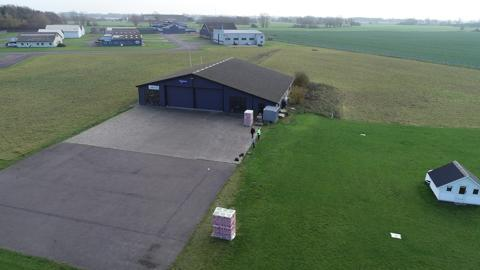RockwoolPallet: (243, 109, 254, 128)
